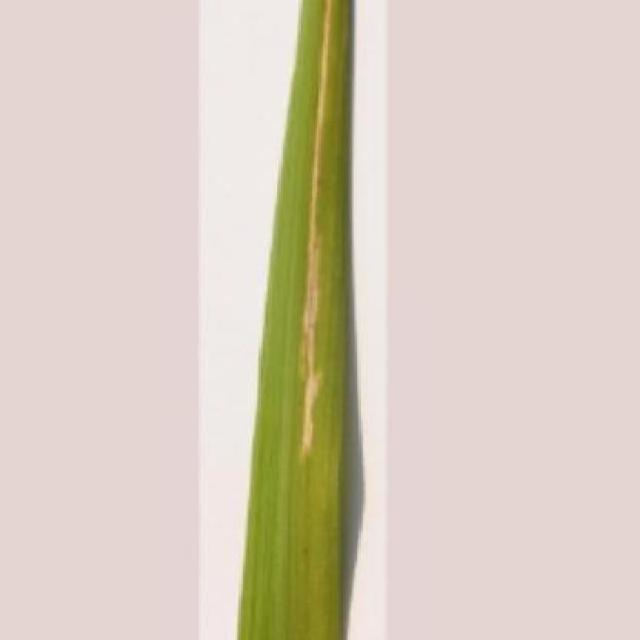Brown_Spot: (234, 0, 354, 640)
